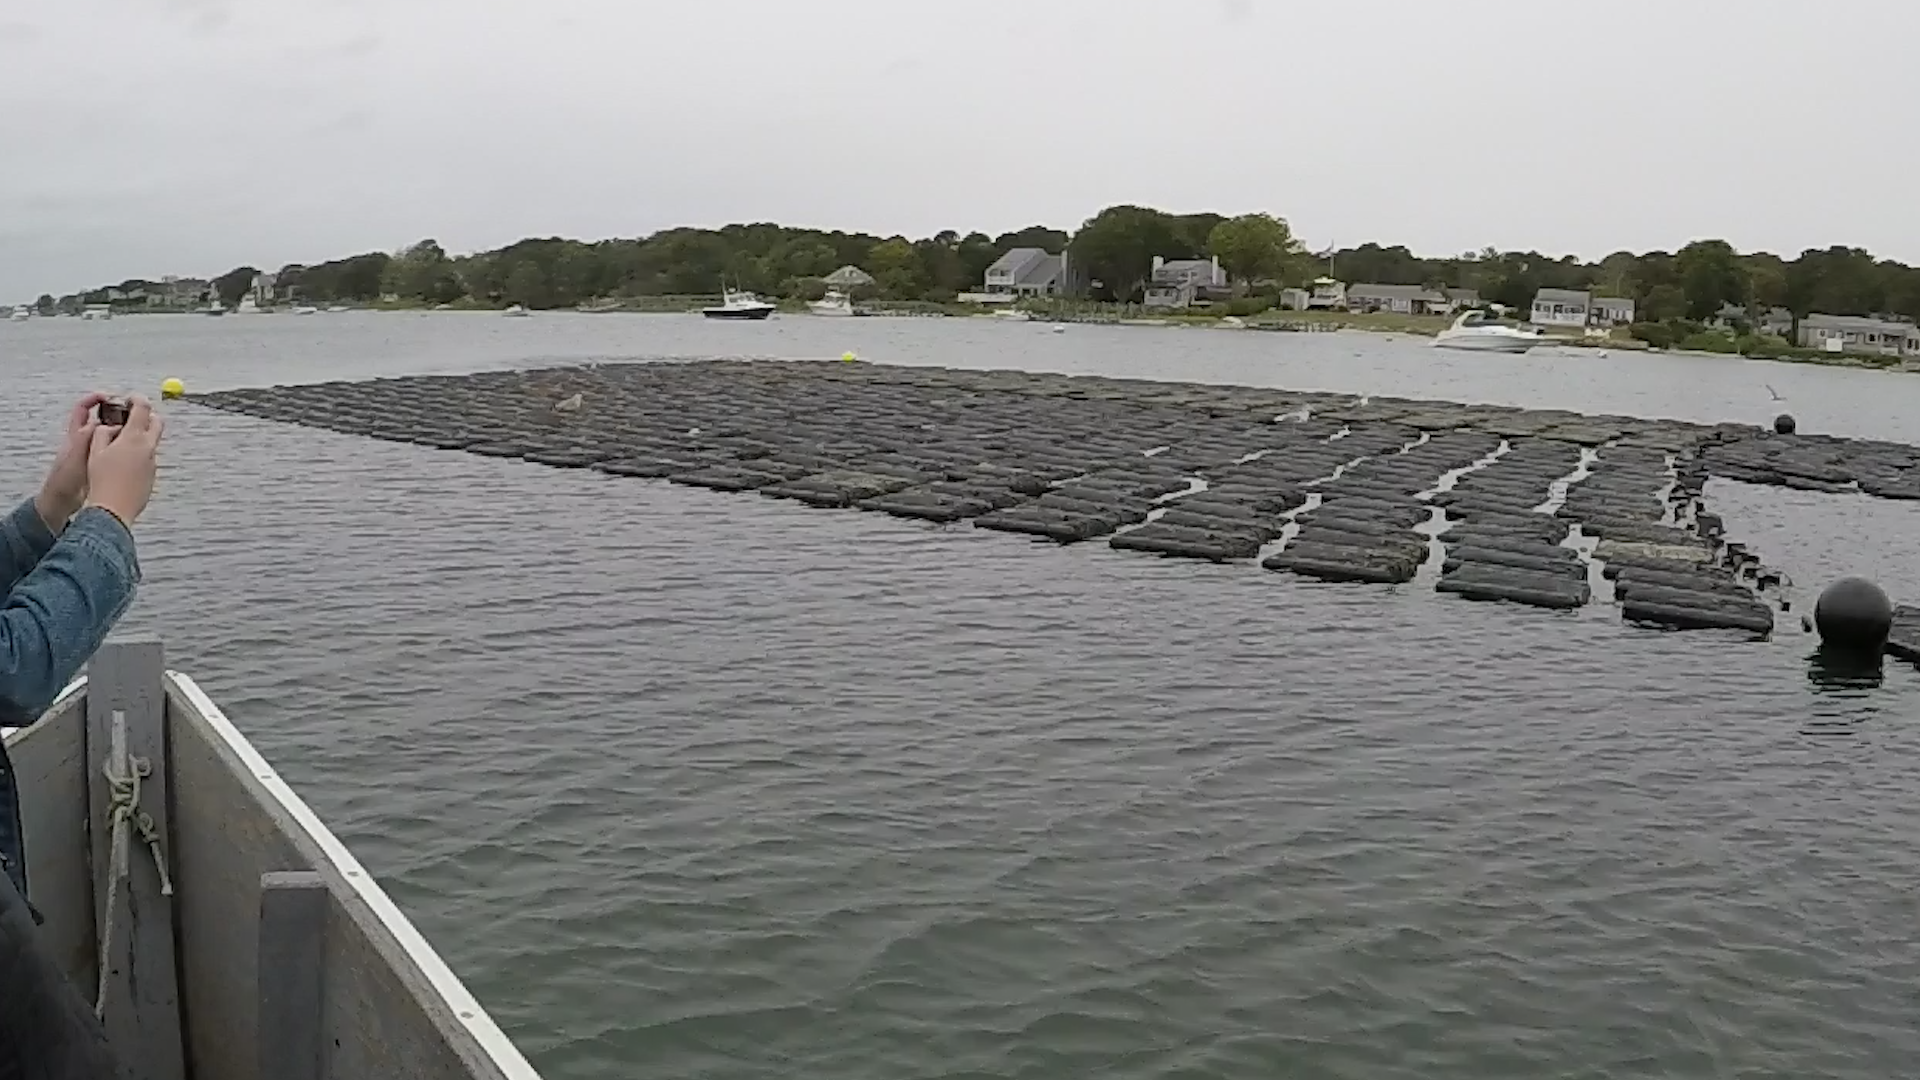bag: (1257, 538, 1418, 588), (1433, 563, 1590, 613), (1617, 589, 1778, 636), (1106, 525, 1251, 570), (975, 502, 1113, 549)
